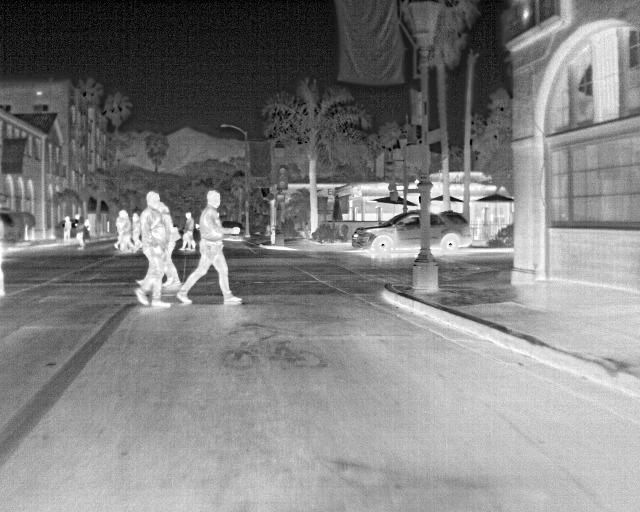bicycle: (349, 209, 420, 259), (432, 210, 470, 255), (222, 219, 248, 241)
empty: (177, 188, 244, 308), (131, 190, 175, 308), (178, 210, 197, 250), (115, 208, 131, 253), (72, 213, 88, 251), (130, 210, 143, 254), (58, 212, 73, 241)
